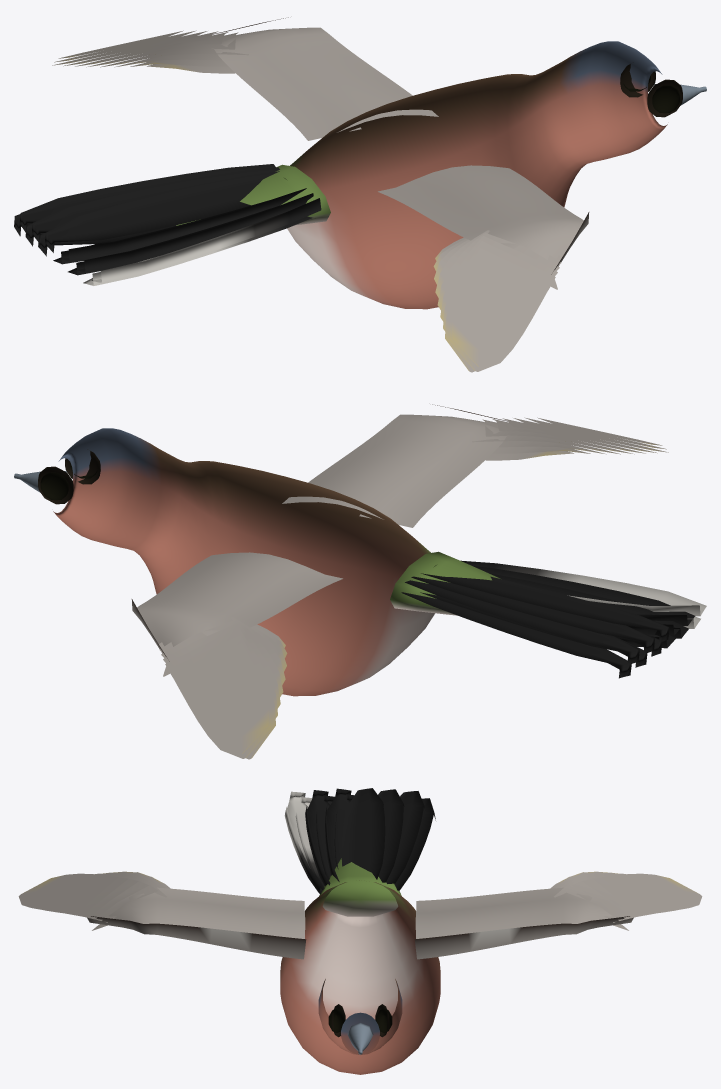
Rendered from SM_Bird_chaffinch_flap3.glb.
The picture shows the model from 3 angles, top to bottom: view 1: azimuth 30°, elevation 25°; view 2: azimuth 150°, elevation 25°; view 3: azimuth 270°, elevation 25°; orthographic projection. The views are drawn at different scales.
Visible parts, largest first — view 1: SM_Bird_chaffinch_flap3; view 2: SM_Bird_chaffinch_flap3; view 3: SM_Bird_chaffinch_flap3.
Boxes of the visible parts, x1=… form: SM_Bird_chaffinch_flap3: x1=14, y1=17, x2=706, y2=372; SM_Bird_chaffinch_flap3: x1=14, y1=404, x2=706, y2=759; SM_Bird_chaffinch_flap3: x1=18, y1=788, x2=702, y2=1074.
Size of the model in its own units: 0.1714 by 0.0529 by 0.1953.
